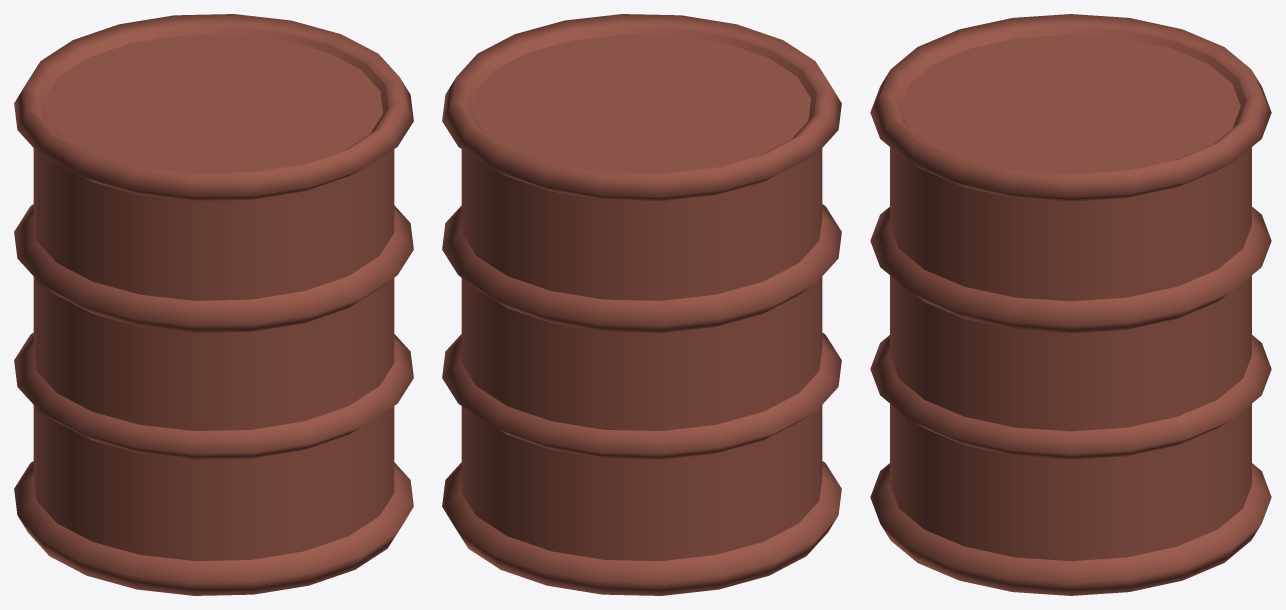
File: Barrel.fbx
3 renders of one model, left to right at view 1: azimuth 30°, elevation 25°; view 2: azimuth 150°, elevation 25°; view 3: azimuth 270°, elevation 25°, orthographic.
Visible parts, largest first — view 1: pCylinder11; view 2: pCylinder11; view 3: pCylinder11.
Boxes of the visible parts, x1,y1,x2,y2 form: pCylinder11: (14, 14, 413, 595); pCylinder11: (442, 14, 841, 595); pCylinder11: (870, 14, 1271, 595).
Size of the model in its own units: 1.24 by 1.44 by 1.24.
